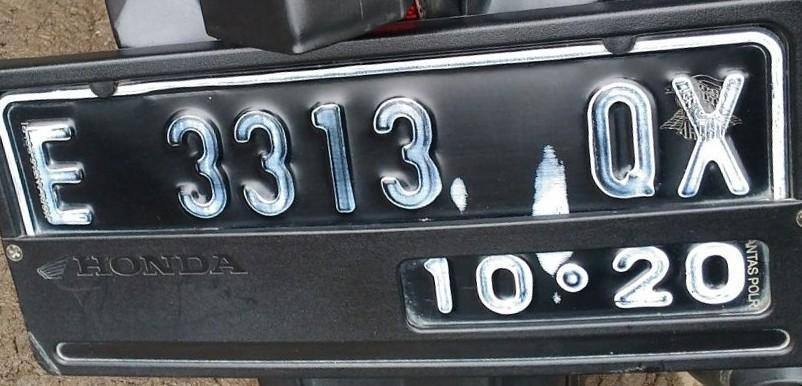1: (306, 96, 362, 216)
3: (361, 93, 451, 214), (226, 103, 306, 221), (156, 110, 235, 222)
E: (16, 111, 103, 230)
Q: (584, 76, 656, 207)
X: (660, 71, 770, 197)
